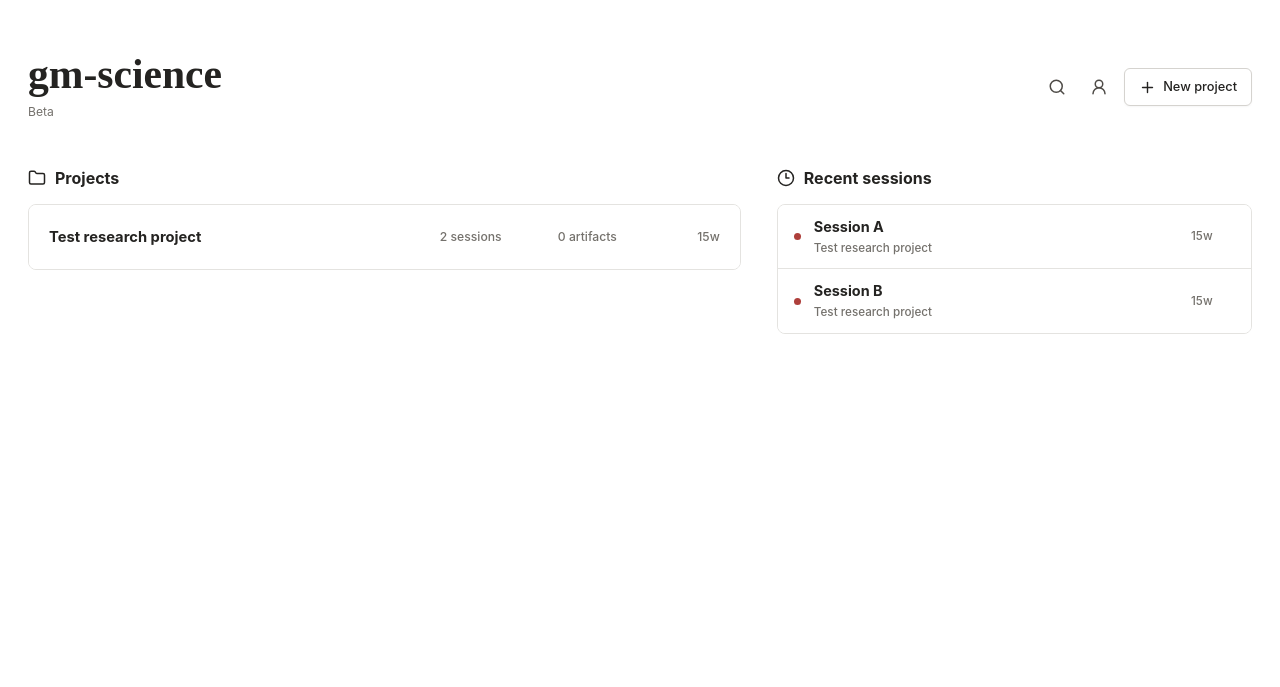
Test: App sending state › shows Compute health-check failures in the settings view
expect the heading "gm-science" is shown: met, box [28,54,222,96]
Click the button named "Settings".
click(1099, 87)  # box [1082,70,1116,104]
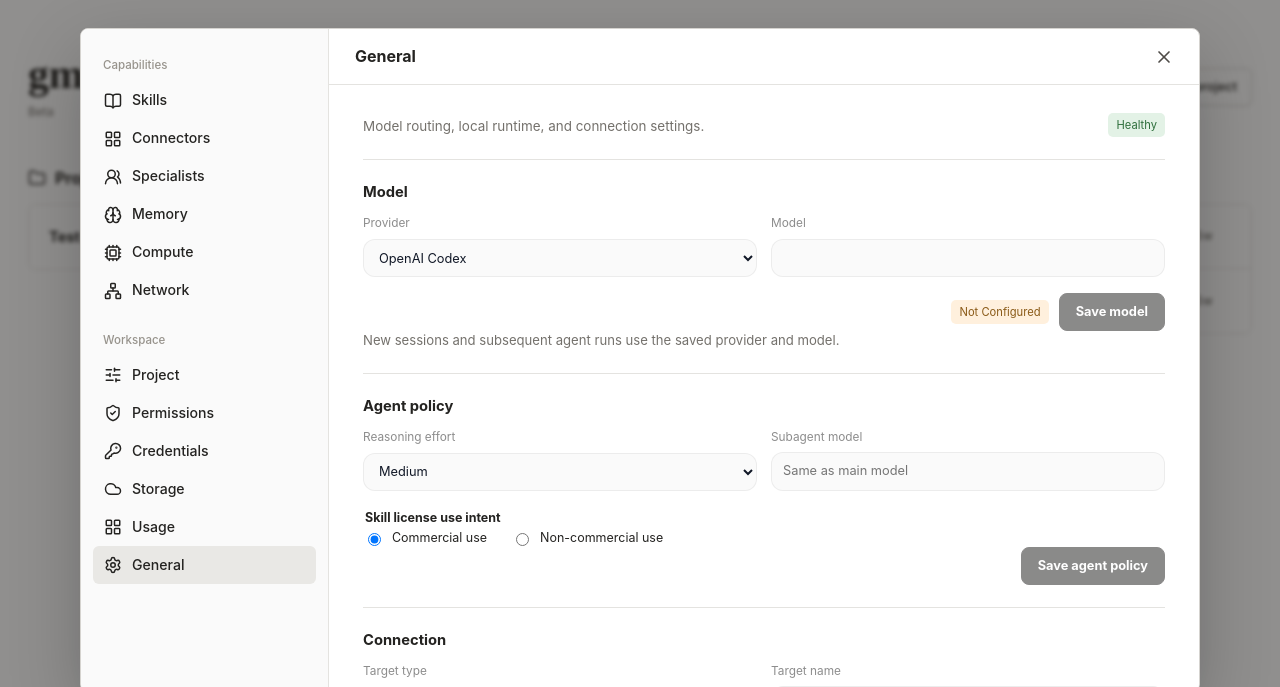
Click the button "Compute".
click(204, 253)  # box [93,234,316,272]
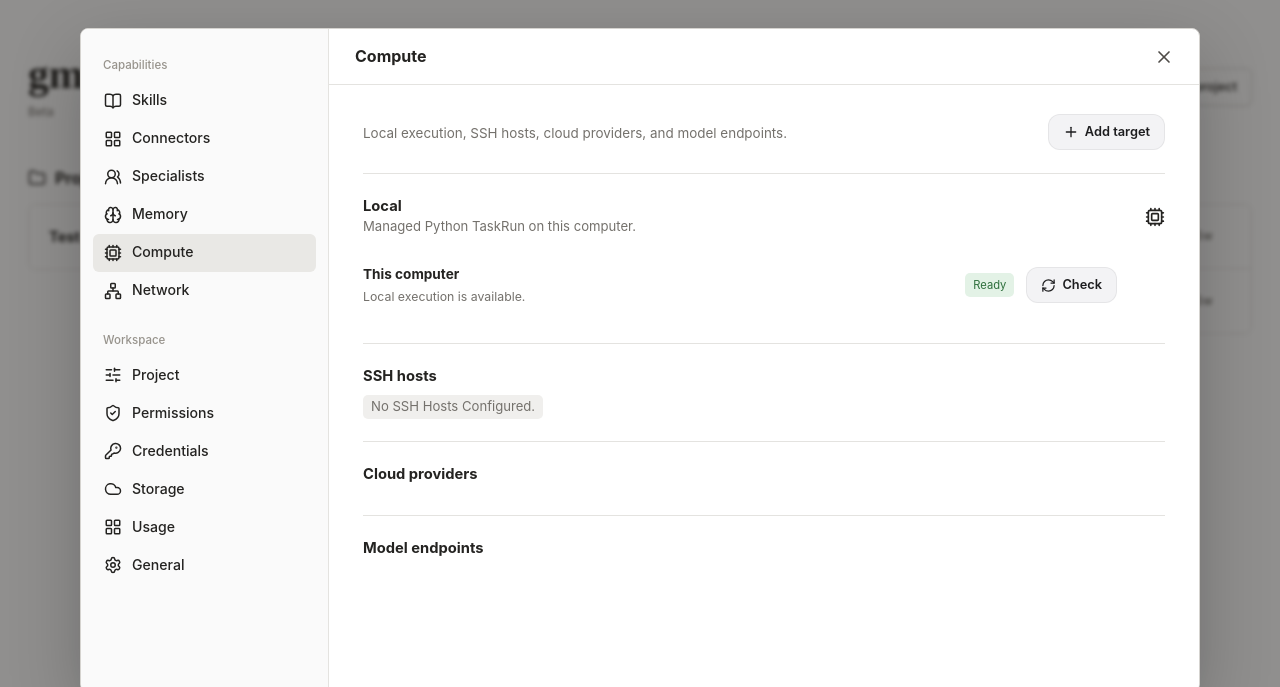
Click the button "Check".
click(1072, 285)  # box [1026,267,1117,303]
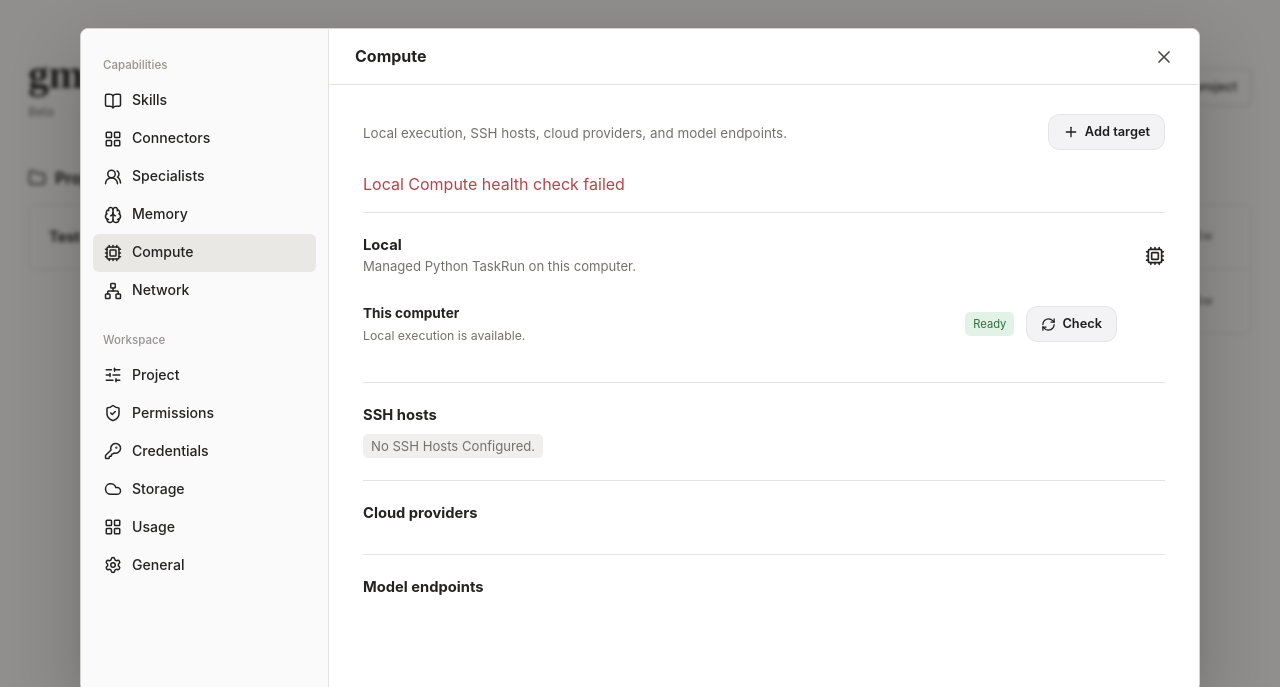
expect the text "Local Compute health check failed" is shown: met, box [363,174,625,194]
